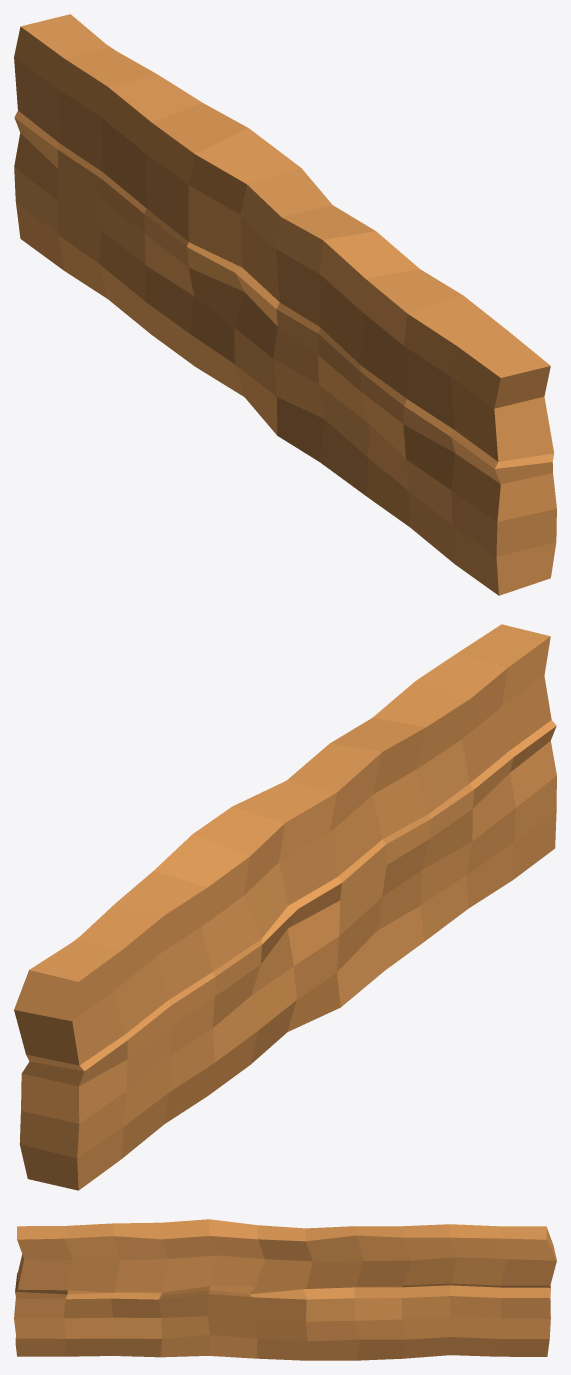
The picture shows the model from 3 angles, top to bottom: view 1: azimuth 30°, elevation 25°; view 2: azimuth 150°, elevation 25°; view 3: azimuth 270°, elevation 25°; orthographic projection. The views are drawn at different scales.
Visible parts, largest first — view 1: Cube; view 2: Cube; view 3: Cube.
Boxes of the visible parts, x1,y1,x2,y2 form: Cube: [14, 14, 556, 595]; Cube: [14, 624, 556, 1190]; Cube: [14, 1219, 556, 1360].
Bounding box in the file's own units: 139 × 403 × 1571.
